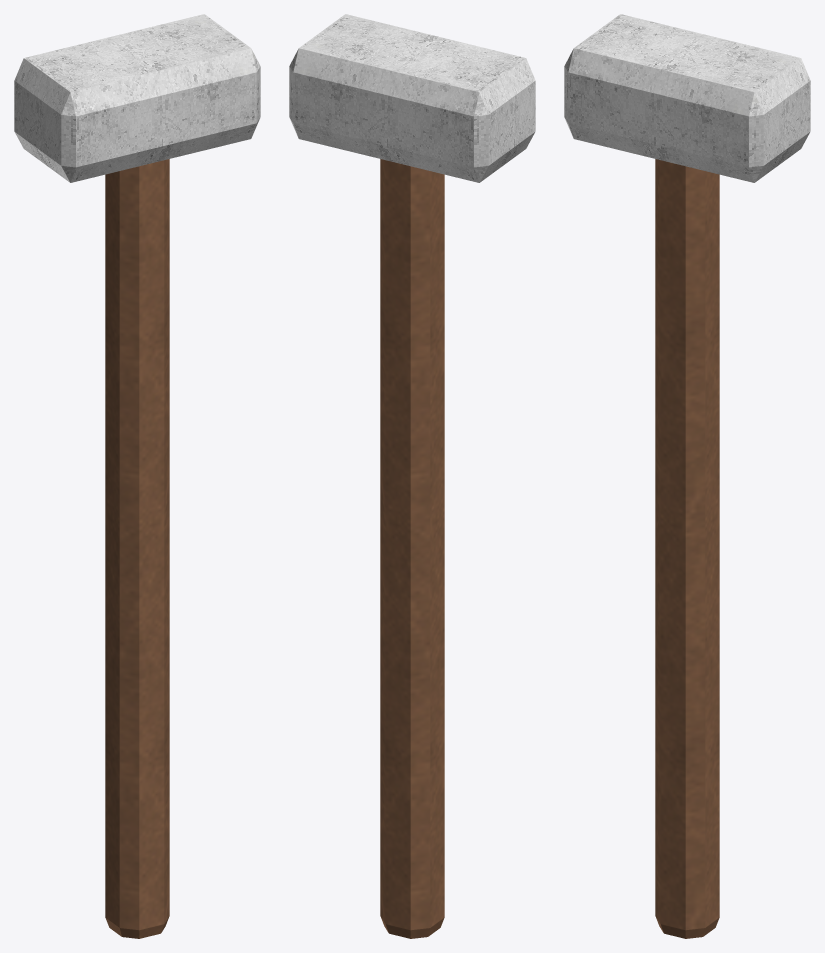
File: sledge_hammer.glb
The picture shows the model from 3 angles, left to right: view 1: azimuth 30°, elevation 25°; view 2: azimuth 150°, elevation 25°; view 3: azimuth 330°, elevation 25°; orthographic projection.
Parts seen in each view (by area): view 1: Hammer; view 2: Hammer; view 3: Hammer.
Part boxes in pixels (box(x1,y1,x2,y2)): Hammer: box(14, 14, 260, 938); Hammer: box(289, 14, 535, 938); Hammer: box(564, 14, 810, 938).
Size of the model in its own units: 0.5008 by 2.1 by 0.2504.
2 materials, 2 textured.
